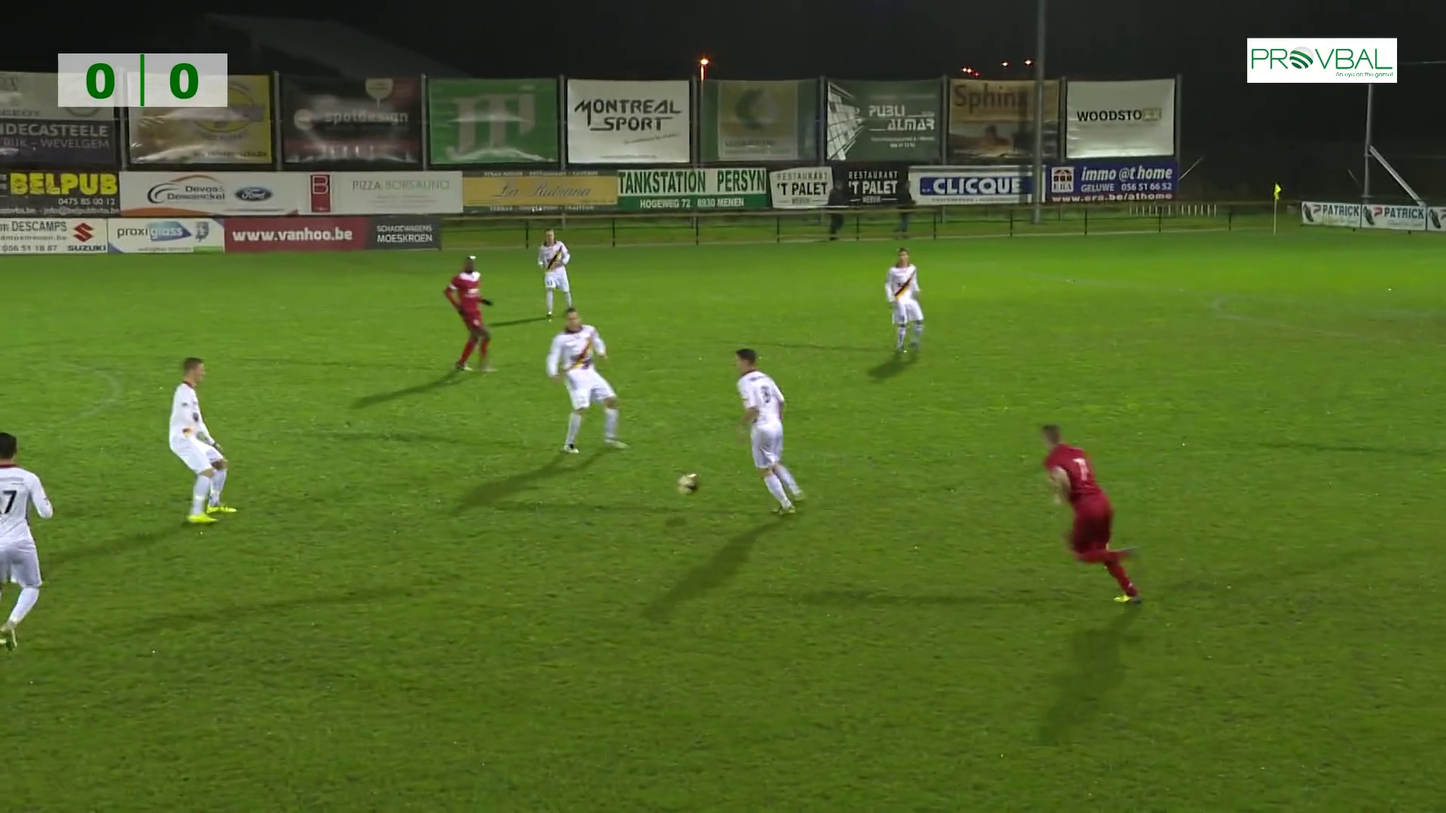red_team: (1033, 421, 1148, 605), (444, 248, 502, 372)
white_team: (162, 353, 242, 522), (728, 348, 803, 516), (4, 425, 57, 660), (547, 309, 630, 446), (881, 240, 930, 354), (535, 231, 575, 312)
